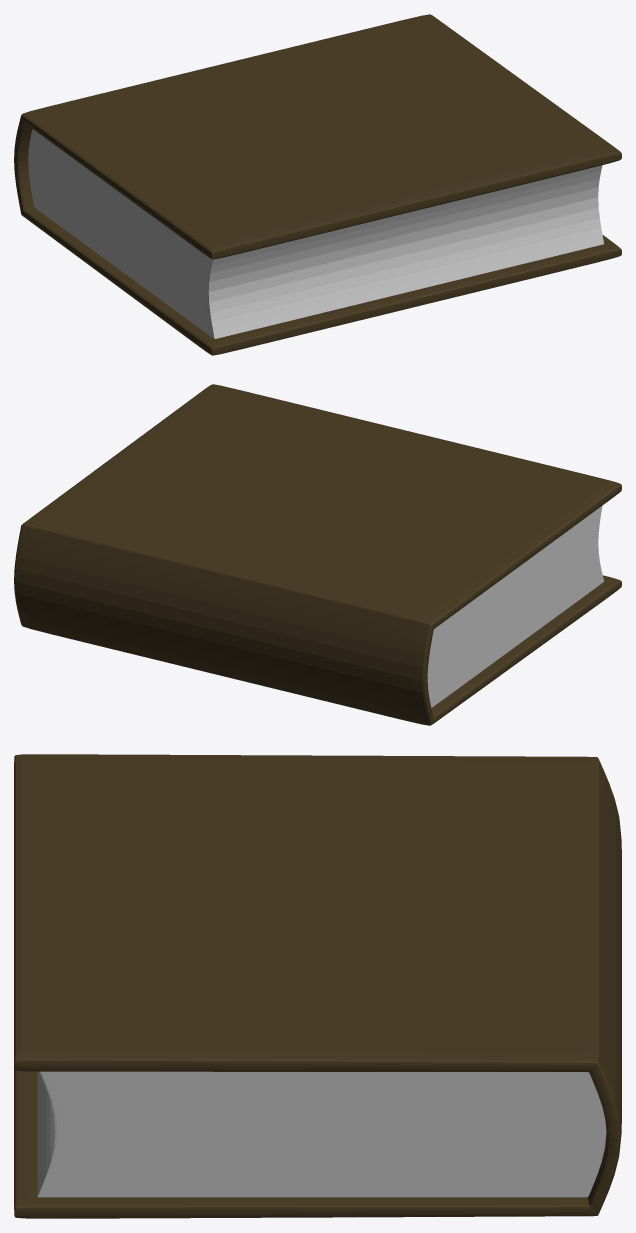
File: Bookcream.obj
3 renders of one model, top to bottom at view 1: azimuth 30°, elevation 25°; view 2: azimuth 150°, elevation 25°; view 3: azimuth 270°, elevation 25°, orthographic. The views are drawn at different scales.
Parts seen in each view (by area): view 1: Cube, Cube.001; view 2: Cube, Cube.001; view 3: Cube, Cube.001.
Boxes of the visible parts, x1,y1,x2,y2 form: Cube: [14, 14, 621, 355]; Cube.001: [28, 129, 603, 338]; Cube: [14, 384, 621, 725]; Cube.001: [427, 506, 603, 707]; Cube: [14, 754, 621, 1218]; Cube.001: [37, 1071, 606, 1197].
Size of the model in its own units: 2 by 0.4962 by 1.67.
